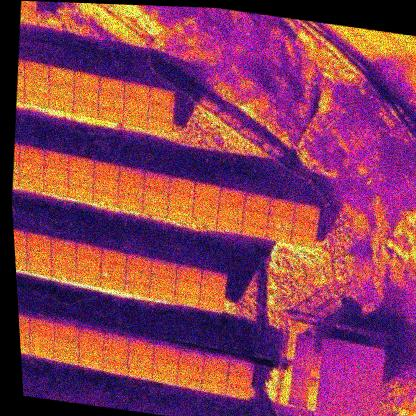Hotspot: (90, 188, 119, 208), (67, 155, 95, 175), (267, 212, 295, 231), (141, 185, 169, 204), (72, 84, 99, 103), (142, 171, 170, 189), (72, 99, 99, 117), (147, 115, 173, 133), (200, 378, 226, 395), (123, 279, 150, 295), (74, 270, 101, 286), (100, 262, 127, 278), (25, 248, 52, 264), (215, 217, 242, 233), (53, 337, 80, 353), (48, 95, 74, 111), (23, 90, 49, 106), (51, 264, 76, 280), (15, 255, 26, 269)
Normal: (124, 253, 152, 275), (242, 193, 271, 213), (122, 80, 151, 100), (146, 99, 174, 119), (217, 188, 245, 207), (116, 193, 143, 212), (291, 216, 318, 235), (42, 164, 69, 183), (97, 90, 124, 109), (48, 79, 75, 98), (98, 75, 125, 94), (23, 61, 50, 80), (227, 358, 254, 377), (127, 338, 154, 357), (198, 281, 226, 299), (150, 259, 178, 277), (92, 175, 120, 193), (118, 166, 146, 184), (121, 95, 149, 113), (48, 66, 76, 84), (74, 256, 101, 274), (100, 248, 127, 266), (75, 242, 102, 260), (25, 233, 52, 251), (191, 210, 218, 228), (66, 184, 93, 202), (42, 178, 69, 196), (167, 191, 194, 209), (117, 179, 144, 197), (67, 172, 94, 190), (294, 202, 321, 220), (269, 199, 296, 217), (17, 159, 44, 177), (193, 183, 220, 201), (93, 160, 120, 178), (43, 150, 70, 168), (18, 145, 45, 163), (121, 109, 148, 127), (96, 105, 123, 123), (22, 76, 49, 94), (148, 85, 175, 103), (73, 70, 100, 88), (101, 358, 128, 376), (76, 352, 103, 370), (178, 349, 205, 367), (153, 344, 180, 362), (103, 333, 130, 351), (78, 329, 105, 347), (53, 323, 80, 341), (28, 317, 55, 335), (173, 265, 202, 281), (173, 289, 200, 306), (50, 251, 77, 268), (201, 270, 228, 287), (166, 204, 193, 221), (141, 200, 168, 217), (241, 208, 268, 225), (217, 204, 244, 221), (169, 177, 196, 194), (175, 373, 202, 390), (126, 364, 153, 381), (28, 343, 55, 360), (203, 354, 230, 371), (174, 277, 202, 293), (51, 238, 77, 255), (241, 221, 267, 238), (18, 173, 44, 190), (224, 382, 250, 399), (151, 368, 177, 385), (198, 296, 225, 312), (24, 259, 51, 275), (149, 273, 176, 289), (192, 197, 219, 213), (201, 367, 228, 383), (28, 331, 55, 347), (264, 227, 292, 242), (290, 231, 316, 247), (99, 275, 126, 290), (176, 362, 203, 377), (102, 347, 129, 362), (53, 349, 78, 365), (149, 285, 175, 300), (125, 270, 152, 284), (151, 358, 178, 372), (127, 354, 154, 368), (226, 373, 252, 387), (78, 343, 104, 357), (14, 229, 28, 247), (19, 313, 30, 330), (15, 245, 27, 258), (19, 328, 30, 341), (20, 339, 30, 352)
